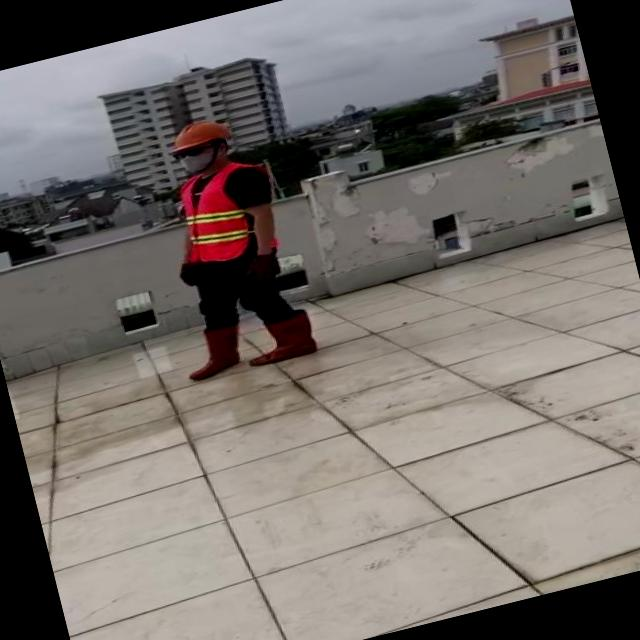boots: (238, 306, 318, 369), (180, 322, 247, 384)
gloves: (178, 240, 230, 302), (242, 230, 294, 287)
helmet: (164, 110, 234, 153)
vest: (170, 163, 264, 266)
